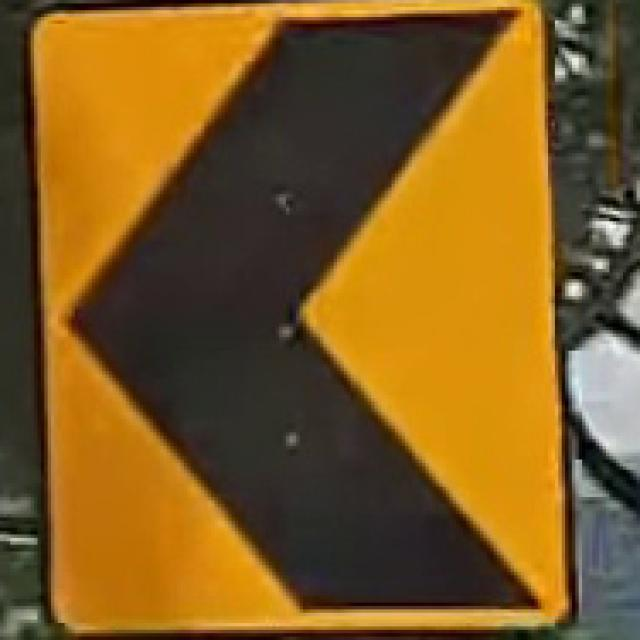curveleft_sign: (20, 0, 579, 637)
